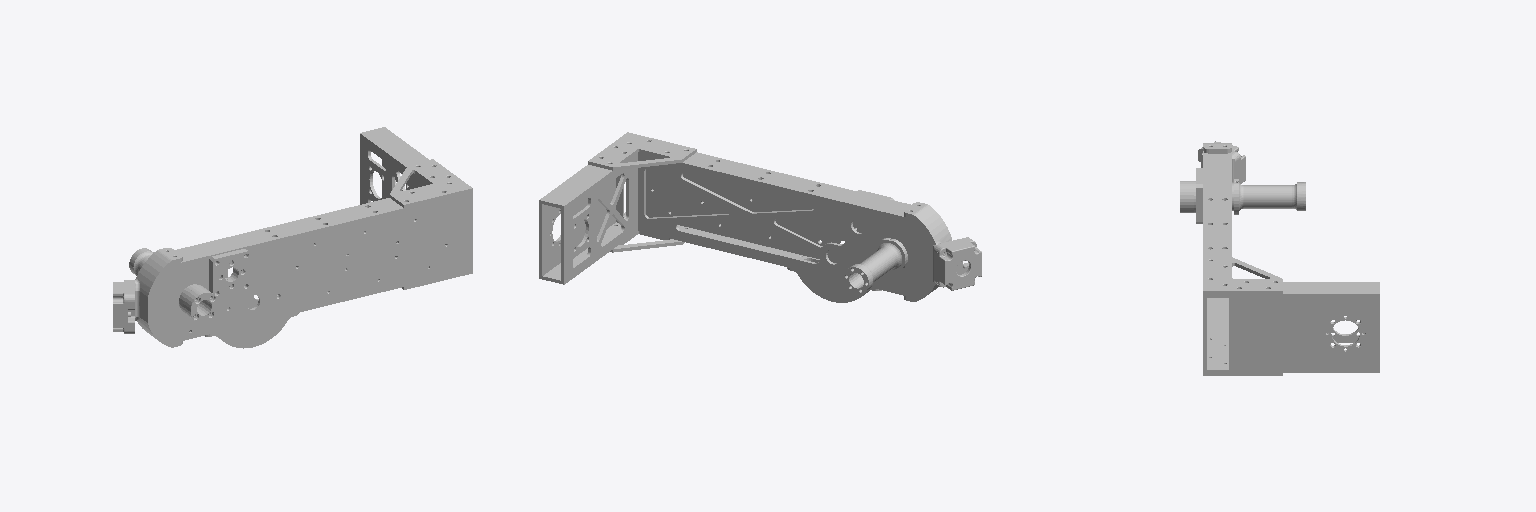
3 renders of one model, left to right at view 1: azimuth 30°, elevation 25°; view 2: azimuth 150°, elevation 25°; view 3: azimuth 270°, elevation 25°, orthographic.
Visible parts, largest first — view 1: J4Skeleton; view 2: J4Skeleton; view 3: J4Skeleton.
Part boxes in pixels (x1,y1,x2,y2): J4Skeleton: (113, 127, 472, 348); J4Skeleton: (539, 132, 981, 302); J4Skeleton: (1180, 141, 1379, 375).
Bounding box in the file's own units: 181 × 51.67 × 87.76.